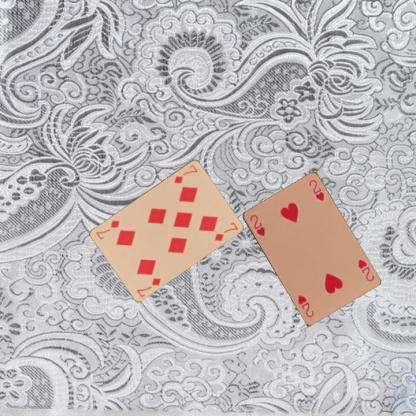2h: (355, 256, 375, 282), (247, 212, 266, 239)
7d: (134, 275, 162, 298), (172, 162, 198, 184)
